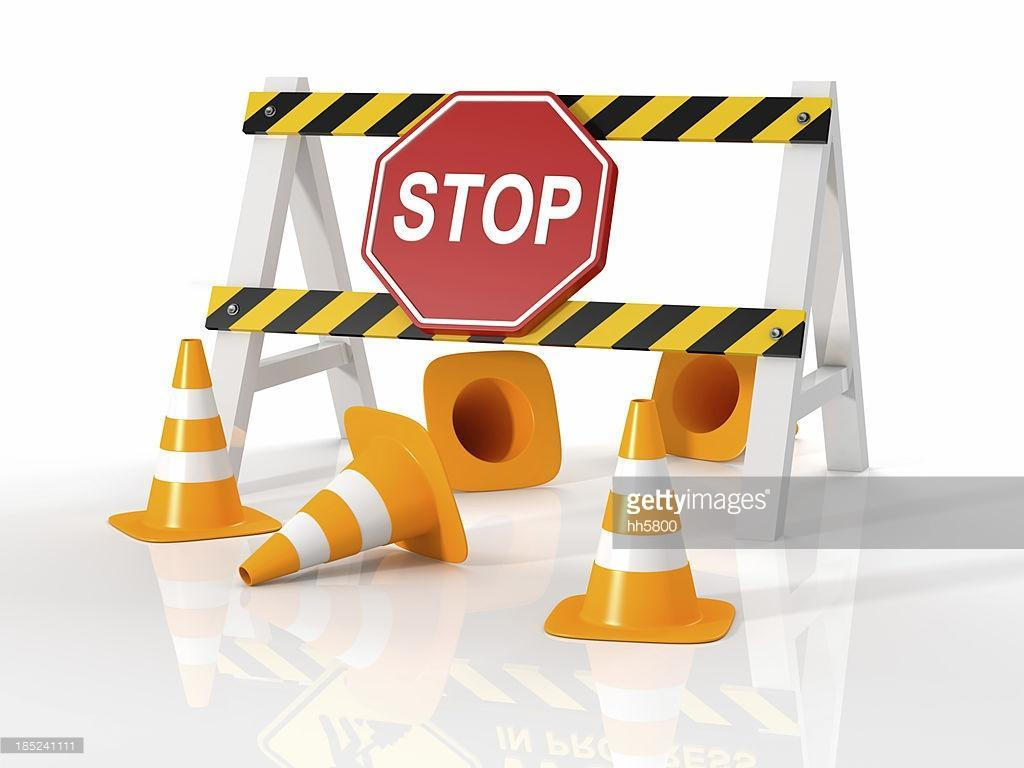Cone: (544, 400, 741, 641), (242, 407, 472, 578), (112, 338, 275, 535), (424, 351, 564, 489), (648, 350, 748, 461)
